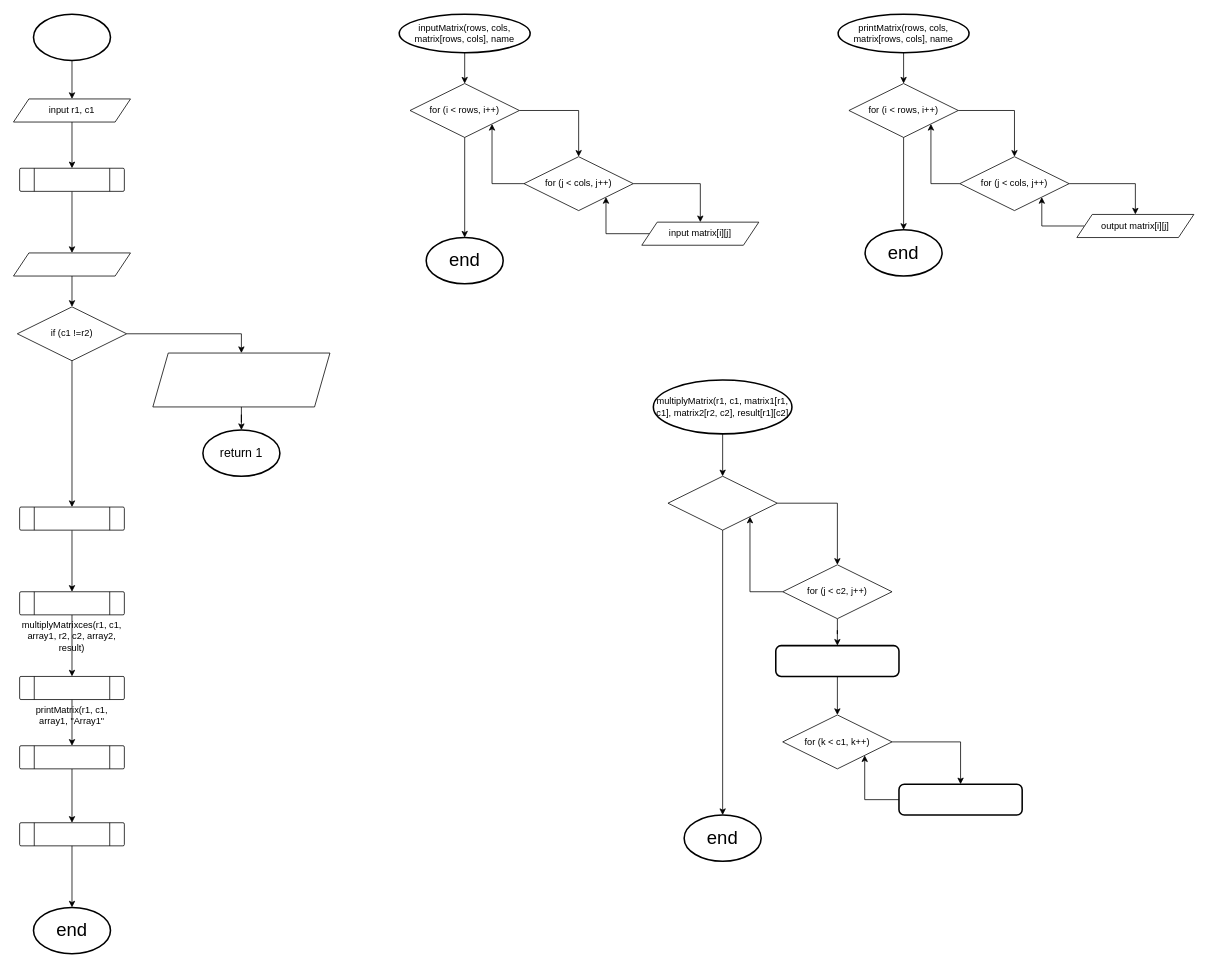
Image size: 1207x967. Some labels were removed from this diagram. Here are the shapes that lost their labels. From the top down, the box of each, then its label:
(32, 13, 111, 61): start
(19, 167, 124, 191): inputMatrix(r1, c1, array1, "Array1")
(13, 252, 131, 276): input r2, c2
(152, 352, 330, 407): output "Matrix multiplication not possible with given dimenstions)
(19, 506, 124, 530): inputMatrix(r2, c2, array2, "Array2")
(667, 475, 777, 530): for (i < r1, i++)
(775, 644, 899, 677): result[i][j] = 0
(19, 745, 124, 769): printMatrix(r2, c2, array2, "Array2"
(898, 783, 1023, 815): result[i][j] += matrix1[i][k] * matrix2[k][j]
(19, 822, 124, 846): printMatrix(r1, c2, result, "Array1 x Array2"
